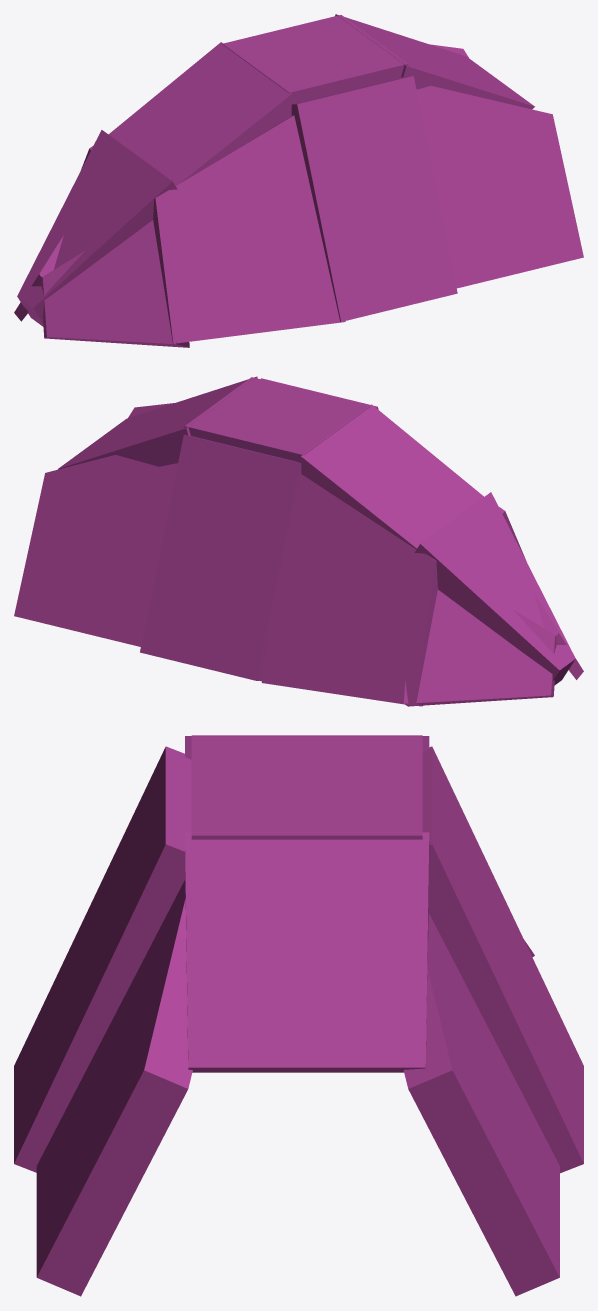
File: SM_Bld_Tent_Medium_01_Collision.fbx
3 renders of one model, top to bottom at view 1: azimuth 30°, elevation 25°; view 2: azimuth 150°, elevation 25°; view 3: azimuth 270°, elevation 25°, orthographic. The views are drawn at different scales.
Parts seen in each view (by area): view 1: SM_Bld_Tent_Medium_01_Collision; view 2: SM_Bld_Tent_Medium_01_Collision; view 3: SM_Bld_Tent_Medium_01_Collision.
Boxes of the visible parts, x1,y1,x2,y2 form: SM_Bld_Tent_Medium_01_Collision: (14, 14, 583, 347); SM_Bld_Tent_Medium_01_Collision: (14, 376, 583, 706); SM_Bld_Tent_Medium_01_Collision: (14, 735, 583, 1296).
Bounding box in the file's own units: 771 × 315 × 460.
